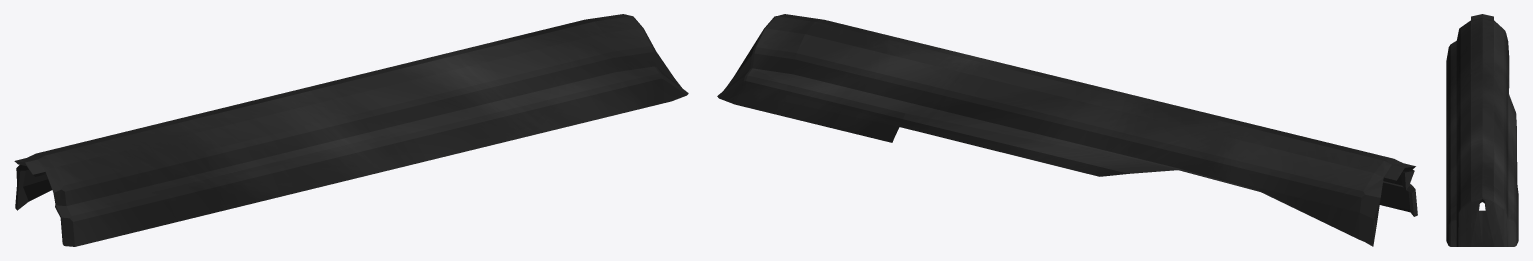
Rendered from ReceiverCoverAK(Defolt).fbx.
The picture shows the model from 3 angles, left to right: view 1: azimuth 30°, elevation 25°; view 2: azimuth 150°, elevation 25°; view 3: azimuth 270°, elevation 25°; orthographic projection. The views are drawn at different scales.
Visible parts, largest first — view 1: ReceiverCover; view 2: ReceiverCover; view 3: ReceiverCover.
Part boxes in pixels (left/top/right/bottom): ReceiverCover: left=14, top=14, right=688, bottom=246; ReceiverCover: left=717, top=14, right=1417, bottom=246; ReceiverCover: left=1446, top=14, right=1518, bottom=246.
Size of the model in its own units: 75.42 by 7.88 by 12.03.
1 material, 1 textured.
